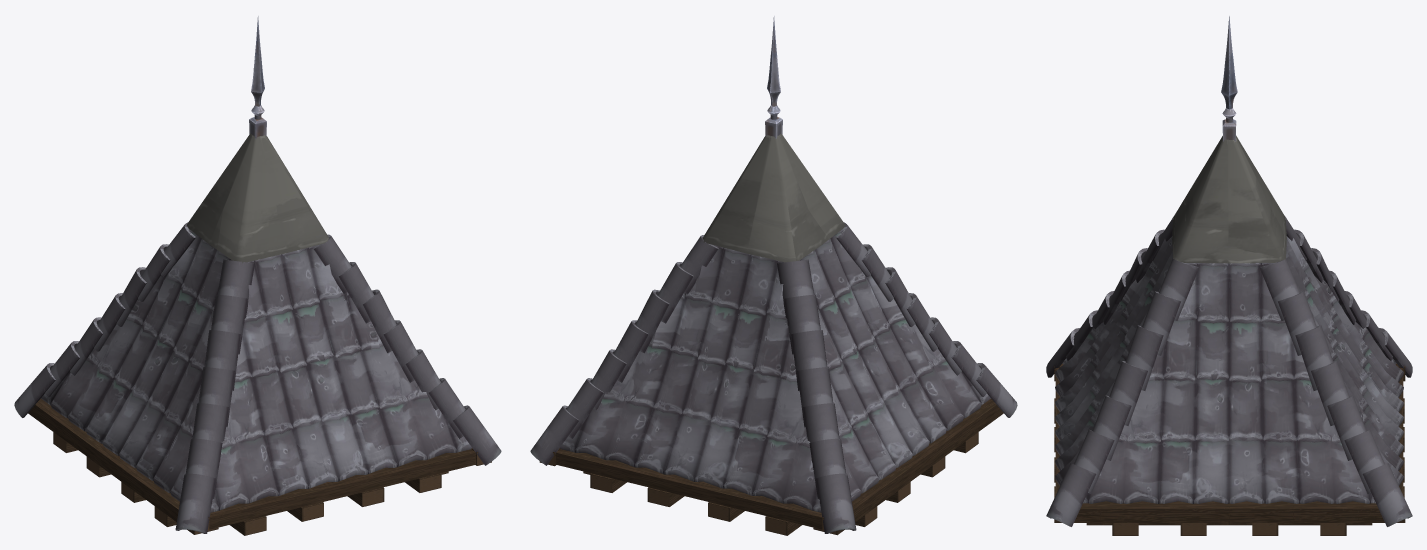
File: Roof_Tower_RoundTiles.gltf
3 views of the same model, side by side, from view 1: azimuth 30°, elevation 25°; view 2: azimuth 150°, elevation 25°; view 3: azimuth 270°, elevation 25° (orthographic). The views are drawn at different scales.
Parts seen in each view (by area): view 1: Roof_Tower_RoundTiles; view 2: Roof_Tower_RoundTiles; view 3: Roof_Tower_RoundTiles.
Part boxes in pixels (left/top/right/bottom): Roof_Tower_RoundTiles: left=14, top=16, right=501, bottom=535; Roof_Tower_RoundTiles: left=530, top=16, right=1017, bottom=535; Roof_Tower_RoundTiles: left=1046, top=16, right=1412, bottom=535.
Bounding box in the file's own units: 5.65 × 7.36 × 5.43.
4 materials, 4 textured.
